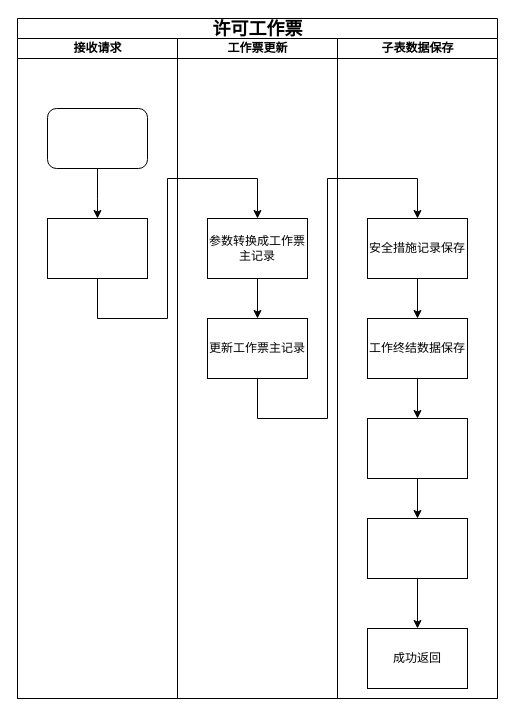
The diagram is 515 pixels wide and 716 high, and some of its shapes have lost their labels. Each missing label, with the centre of its shape:
工作许可数据保存: the point at 417,448
开始: the point at 97,138
请求参数转换成工作票变更入参对象: the point at 97,248
配电安全措施数据保存: the point at 417,548
